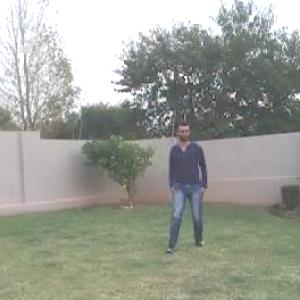follow: (162, 112, 210, 254)
